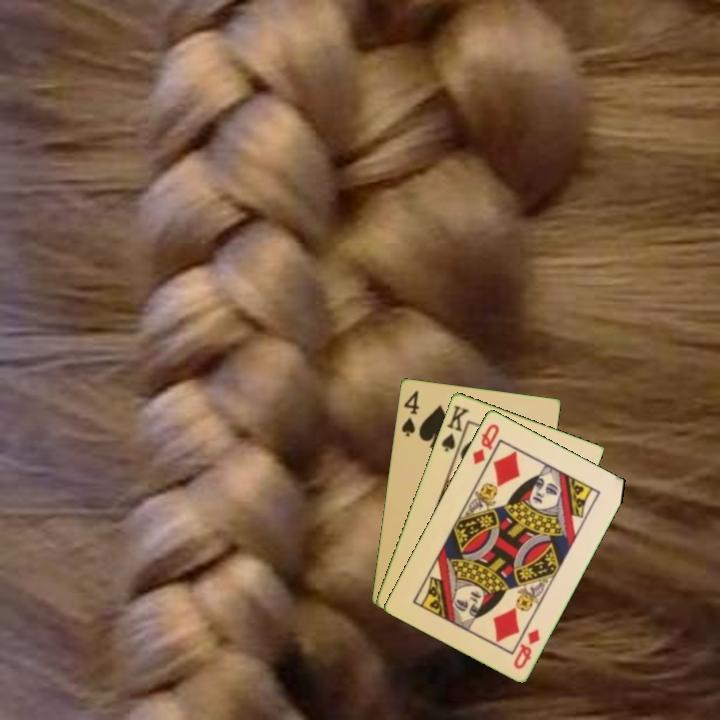4s: (398, 387, 422, 439)
Ks: (438, 401, 472, 457)
Qd: (469, 420, 502, 467), (510, 625, 543, 672)
